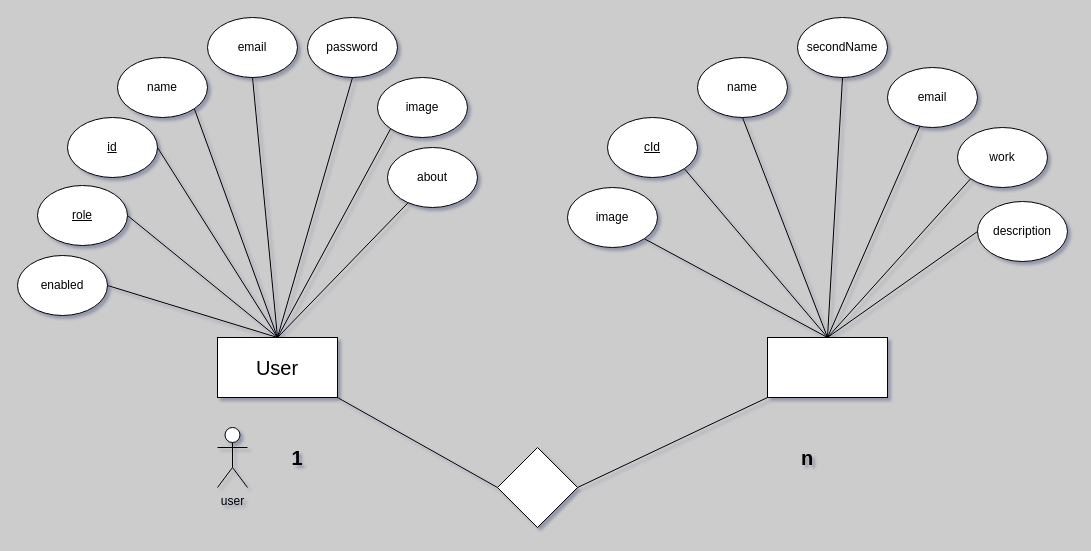
This 1091x551 diagram has some shape labels left out. Each missing label, with the box of its shape:
Contact: (766, 336, 888, 398)
has: (496, 446, 578, 528)
